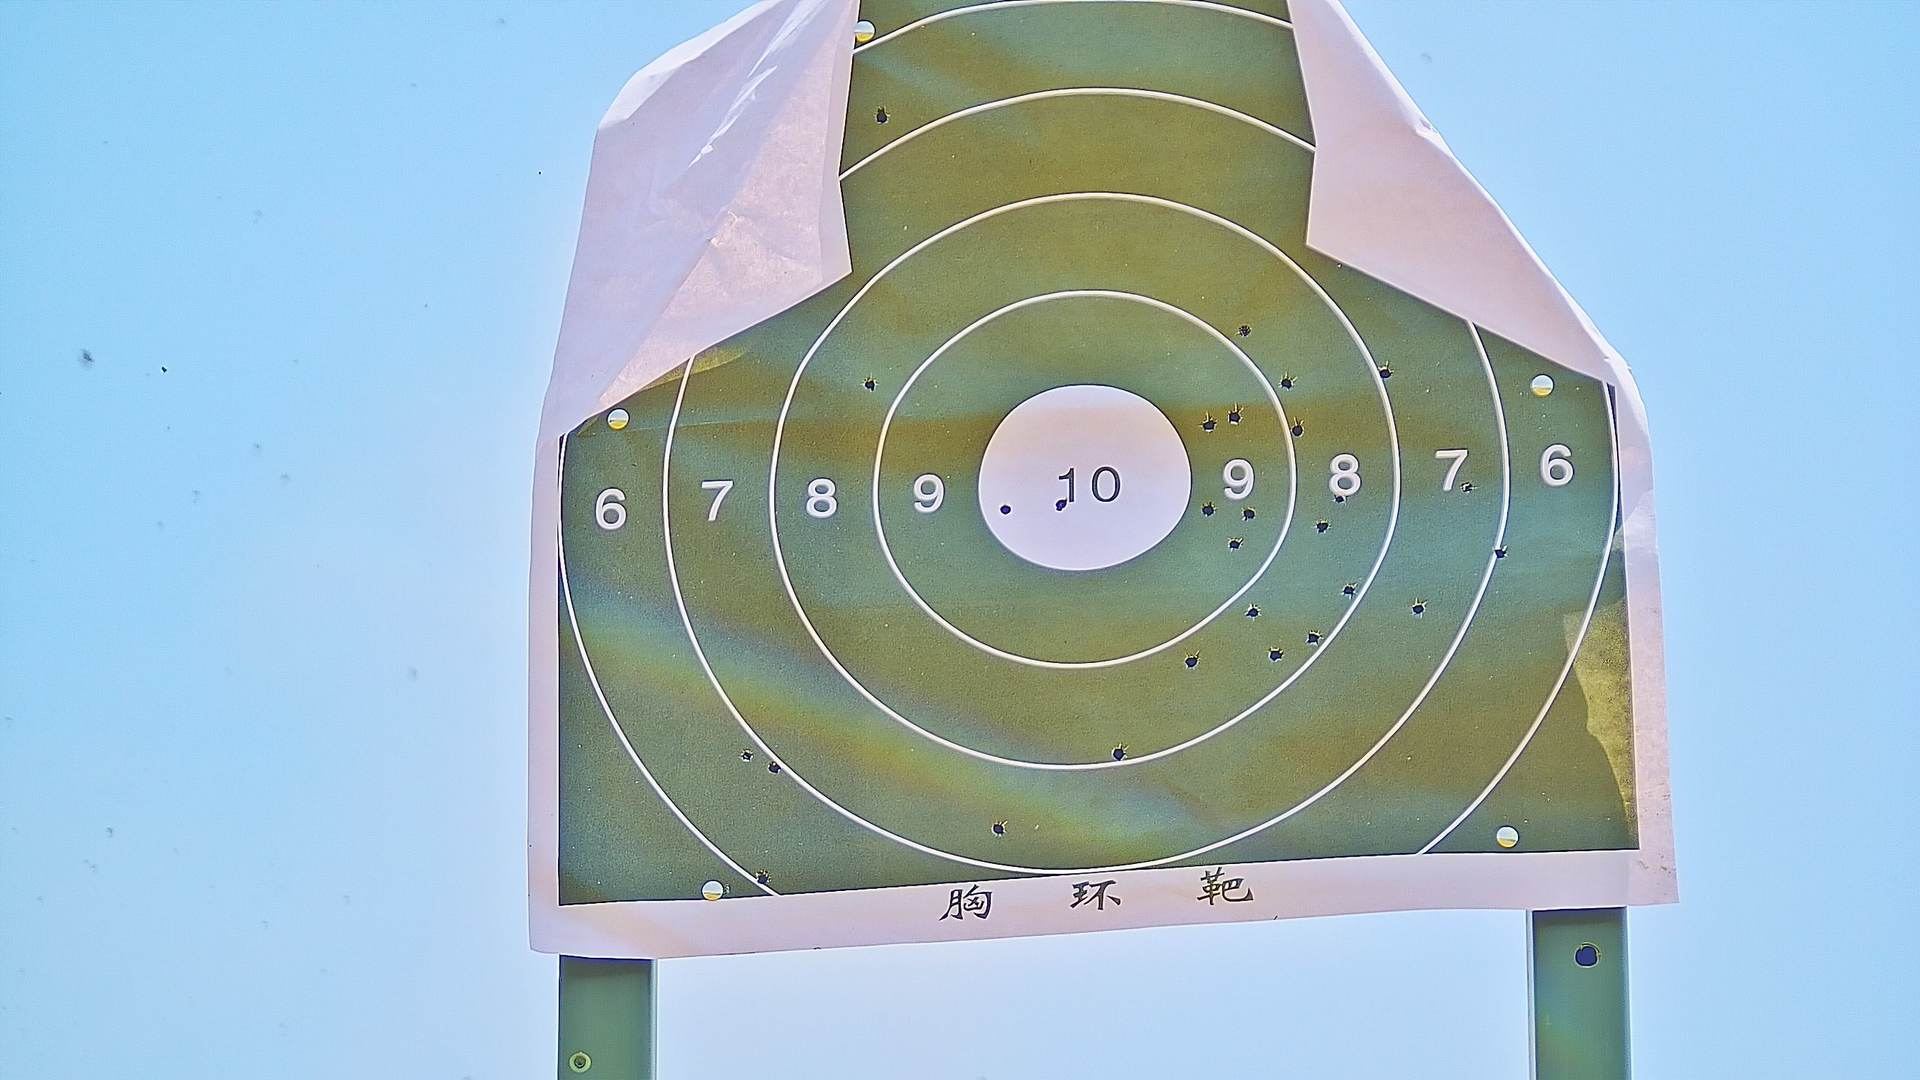hole: (992, 822, 1007, 836), (1267, 646, 1283, 661), (1305, 629, 1320, 645), (1412, 600, 1427, 616), (1228, 409, 1241, 426), (1491, 546, 1509, 559), (1183, 654, 1197, 669), (766, 762, 782, 775), (756, 870, 771, 884), (1458, 480, 1474, 493), (1242, 506, 1255, 521), (876, 107, 887, 123), (1203, 417, 1215, 433), (1279, 376, 1292, 389), (1379, 365, 1393, 378), (865, 377, 877, 392), (1203, 502, 1215, 517), (1315, 521, 1331, 531), (1228, 539, 1241, 551), (1292, 425, 1305, 436), (1342, 584, 1354, 597), (998, 504, 1011, 514), (1247, 605, 1258, 618), (1333, 493, 1346, 504), (1113, 746, 1124, 758), (1238, 324, 1250, 335), (1055, 497, 1065, 508), (740, 750, 752, 760)
kernel: (1083, 484, 1084, 491)
target: (556, 5, 1644, 909)
ten: (973, 376, 1193, 574)
